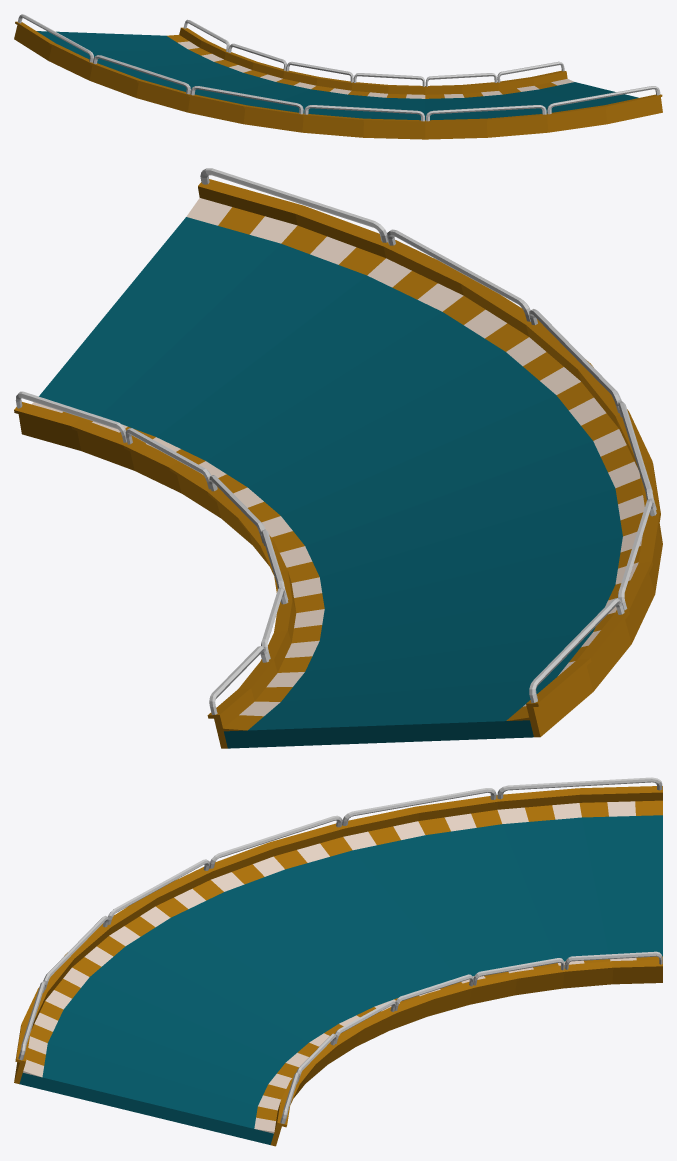
Rendered from bankedRight-90-15_l.FBX.
The picture shows the model from 3 angles, top to bottom: view 1: azimuth 30°, elevation 25°; view 2: azimuth 150°, elevation 25°; view 3: azimuth 270°, elevation 25°; orthographic projection. The views are drawn at different scales.
Parts seen in each view (by area): view 1: wall_l, bankedRight-90-15_l, wall_r, curbs_r; view 2: bankedRight-90-15_l, wall_l, curbs_l, wall_r, curbs_r; view 3: bankedRight-90-15_l, wall_l, curbs_l, wall_r, curbs_r.
Part boxes in pixels (left/top/right/bottom): wall_l: left=14, top=14, right=662, bottom=139; bankedRight-90-15_l: left=36, top=31, right=638, bottom=120; wall_r: left=179, top=19, right=567, bottom=94; curbs_r: left=167, top=35, right=574, bottom=98; bankedRight-90-15_l: left=39, top=217, right=622, bottom=748; wall_l: left=198, top=168, right=662, bottom=737; curbs_l: left=186, top=198, right=644, bottom=720; wall_r: left=14, top=391, right=296, bottom=748; curbs_r: left=31, top=402, right=324, bottom=731; bankedRight-90-15_l: left=19, top=815, right=662, bottom=1144; wall_l: left=14, top=777, right=662, bottom=1083; curbs_l: left=23, top=800, right=662, bottom=1077; wall_r: left=270, top=951, right=662, bottom=1146; curbs_r: left=254, top=956, right=662, bottom=1133.
Size of what is drawn, in the model's own units: 479 by 80.3 by 479.
